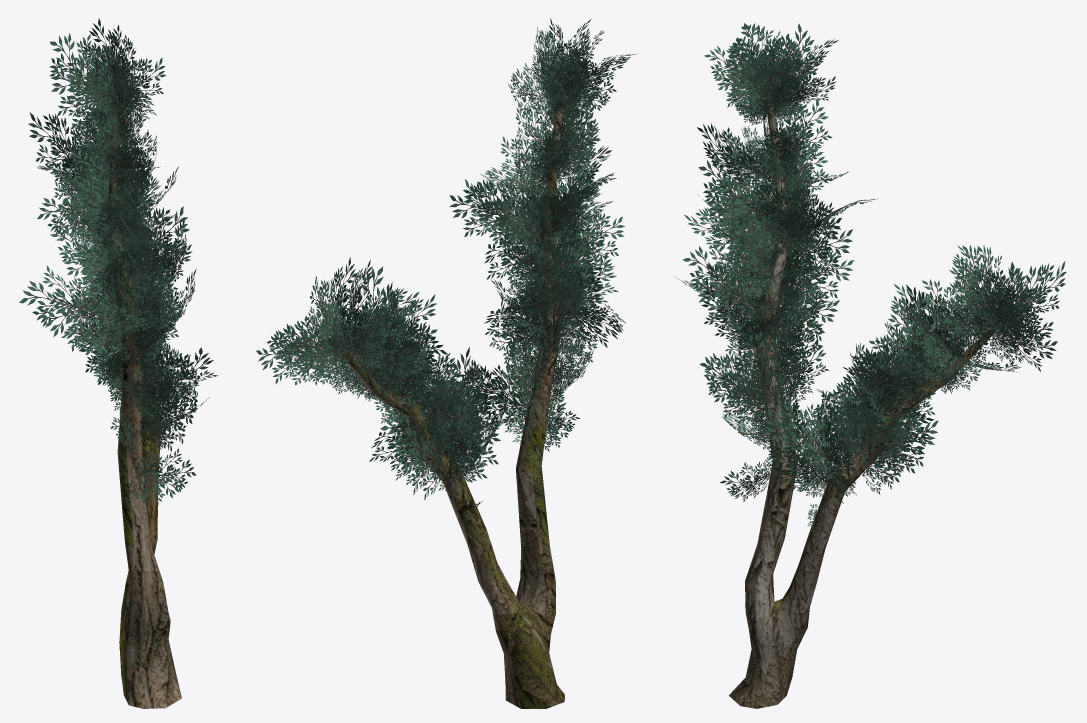
3 renders of one model, left to right at view 1: azimuth 30°, elevation 25°; view 2: azimuth 150°, elevation 25°; view 3: azimuth 270°, elevation 25°, orthographic. The views are drawn at different scales.
Parts seen in each view (by area): view 1: pCylinder7, pCylinder7|L3|Dupli|113, pCylinder7|L3|Dupli|188, pCylinder7|L3|Dupli|212, pCylinder7|L3|Dupli|130, pCylinder7|L3|Dupli|227, pCylinder7|L3|Dupli|211, pCylinder7|L3|Dupli|70, pCylinder7|L3|Dupli|125, pCylinder7|L3|Dupli|75, pCylinder7|L3|Dupli|177, pCylinder7|L3|Dupli|174 (+54 smaller); view 2: pCylinder7, pCylinder7|L3|Dupli|123, pCylinder7|L3|Dupli|239, pCylinder7|L3|Dupli|160, pCylinder7|L3|Dupli|113, pCylinder7|L3|Dupli|46, pCylinder7|L3|Dupli|233, pCylinder7|L3|Dupli|215, pCylinder7|L3|Dupli|55, pCylinder7|L3|Dupli|92, pCylinder7|L3|Dupli|71, pCylinder7|L3|Dupli|154 (+41 smaller); view 3: pCylinder7, pCylinder7|L3|Dupli|74, pCylinder7|L3|Dupli|117, pCylinder7|L3|Dupli|97, pCylinder7|L3|Dupli|70, pCylinder7|L3|Dupli|44, pCylinder7|L3|Dupli|193, pCylinder7|L3|Dupli|144, pCylinder7|L3|Dupli|58, pCylinder7|L3|Dupli|64, pCylinder7|L3|Dupli|215, pCylinder7|L3|Dupli|75 (+53 smaller).
Part boxes in pixels (box(x1,y1,x2,y2)): pCylinder7: box(107, 102, 181, 708); pCylinder7|L3|Dupli|113: box(19, 266, 113, 351); pCylinder7|L3|Dupli|188: box(49, 33, 110, 131); pCylinder7|L3|Dupli|212: box(130, 448, 195, 505); pCylinder7|L3|Dupli|130: box(123, 206, 189, 286); pCylinder7|L3|Dupli|227: box(28, 112, 92, 201); pCylinder7|L3|Dupli|211: box(84, 102, 146, 181); pCylinder7|L3|Dupli|70: box(148, 359, 199, 451); pCylinder7|L3|Dupli|125: box(54, 153, 108, 235); pCylinder7|L3|Dupli|75: box(142, 357, 178, 425); pCylinder7|L3|Dupli|177: box(111, 58, 165, 116); pCylinder7|L3|Dupli|174: box(73, 50, 111, 118); pCylinder7: box(341, 90, 564, 708); pCylinder7|L3|Dupli|123: box(449, 181, 541, 258); pCylinder7|L3|Dupli|239: box(352, 323, 447, 390); pCylinder7|L3|Dupli|160: box(484, 229, 555, 300); pCylinder7|L3|Dupli|113: box(545, 291, 625, 347); pCylinder7|L3|Dupli|46: box(425, 359, 496, 451); pCylinder7|L3|Dupli|233: box(352, 287, 419, 371); pCylinder7|L3|Dupli|215: box(256, 316, 342, 385); pCylinder7|L3|Dupli|55: box(380, 409, 445, 499); pCylinder7|L3|Dupli|92: box(484, 304, 558, 361); pCylinder7|L3|Dupli|71: box(448, 365, 533, 433); pCylinder7|L3|Dupli|154: box(558, 212, 624, 288); pCylinder7: box(729, 94, 996, 708); pCylinder7|L3|Dupli|74: box(729, 329, 798, 415); pCylinder7|L3|Dupli|117: box(683, 244, 763, 330); pCylinder7|L3|Dupli|97: box(757, 305, 822, 385); pCylinder7|L3|Dupli|70: box(768, 419, 837, 491); pCylinder7|L3|Dupli|44: box(843, 343, 916, 413); pCylinder7|L3|Dupli|193: box(697, 123, 776, 188); pCylinder7|L3|Dupli|144: box(698, 157, 776, 248); pCylinder7|L3|Dupli|58: box(862, 412, 938, 494); pCylinder7|L3|Dupli|64: box(772, 400, 838, 479); pCylinder7|L3|Dupli|215: box(988, 306, 1057, 371); pCylinder7|L3|Dupli|75: box(700, 349, 770, 424).
Bounding box in the file's own units: 4417 × 11693 × 6453.
